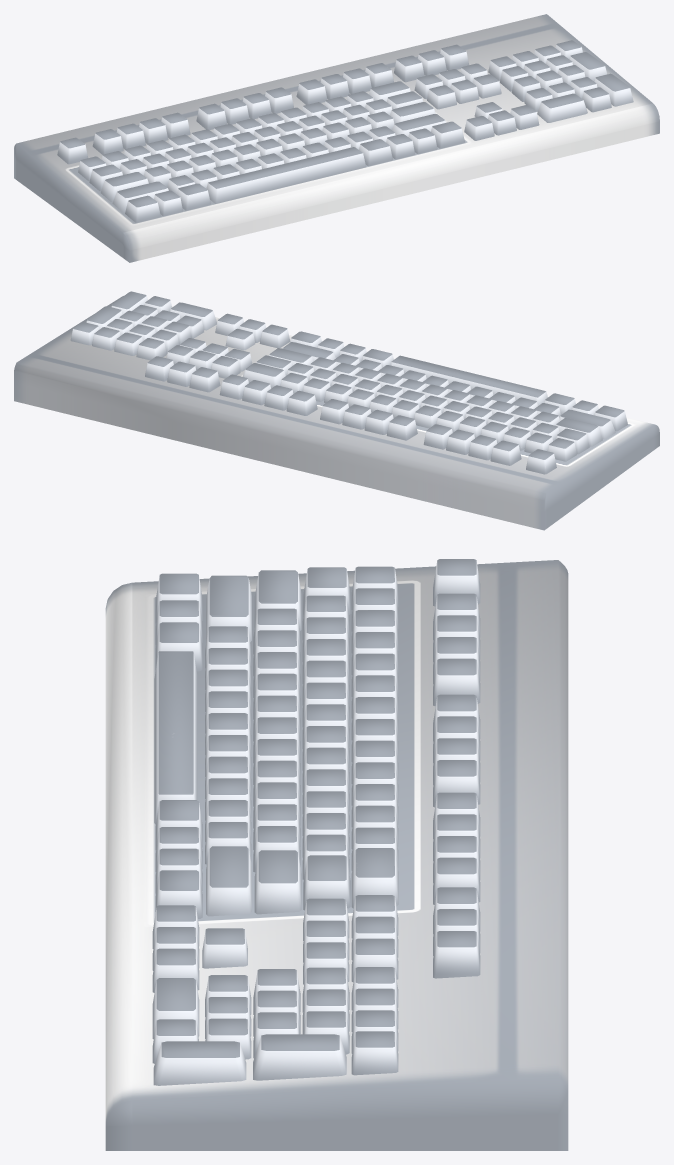
Rendered from Keyboard.gltf.
The picture shows the model from 3 angles, top to bottom: view 1: azimuth 30°, elevation 25°; view 2: azimuth 150°, elevation 25°; view 3: azimuth 270°, elevation 25°; orthographic projection. The views are drawn at different scales.
Parts seen in each view (by area): view 1: Keys; view 2: Keys; view 3: Keys.
Part boxes in pixels (x1,y1,x2,y2): Keys: (14, 14, 659, 262); Keys: (14, 291, 659, 530); Keys: (105, 559, 568, 1150).
Bounding box in the file's own units: 0.45 × 0.039 × 0.17.
Materials: 1 (1 with a texture image).
